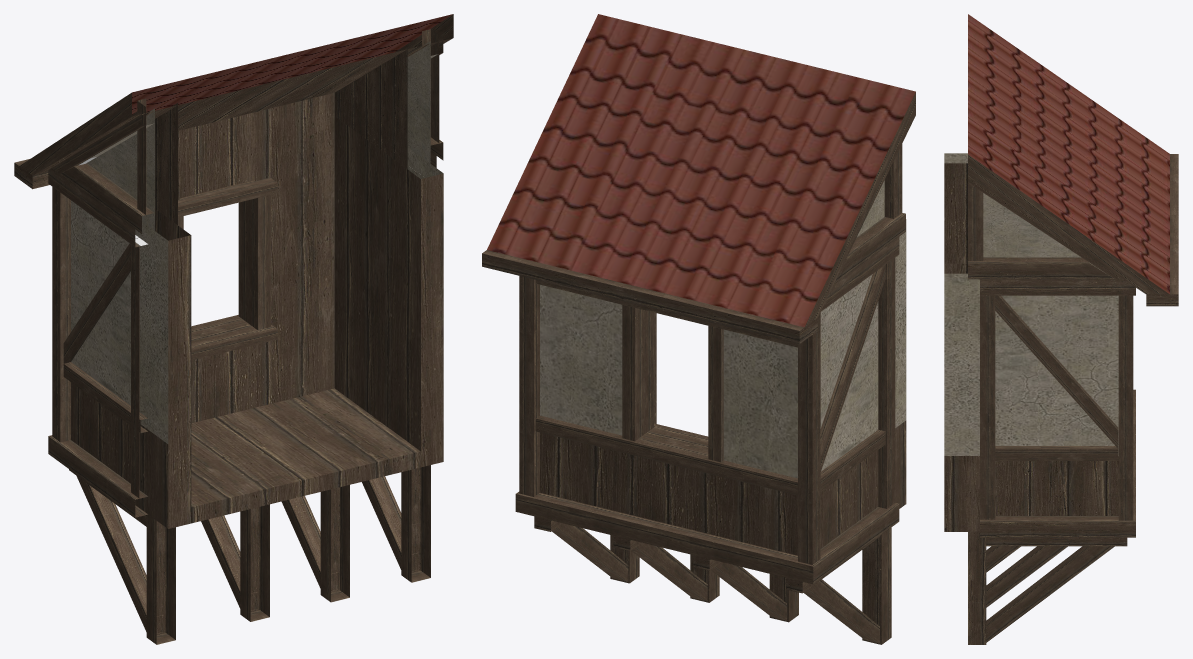
Rendered from ARC1010372.fbx.
The picture shows the model from 3 angles, left to right: view 1: azimuth 30°, elevation 25°; view 2: azimuth 150°, elevation 25°; view 3: azimuth 270°, elevation 25°; orthographic projection. The views are drawn at different scales.
Visible parts, largest first — view 1: smARC1010372; view 2: smARC1010372; view 3: smARC1010372.
Part boxes in pixels (left/top/right/bottom): smARC1010372: left=14, top=14, right=453, bottom=644; smARC1010372: left=482, top=14, right=915, bottom=644; smARC1010372: left=944, top=14, right=1178, bottom=644.
Size of the model in its own units: 313 by 519 by 220.
1 material, 1 textured.
